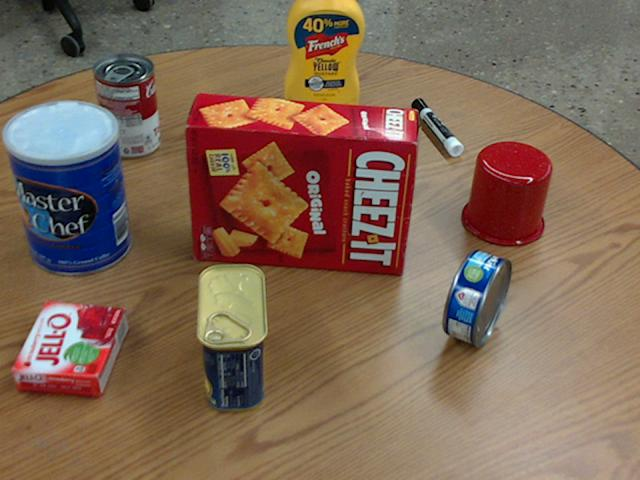cracker_box: (187, 93, 417, 275)
gelatin_box: (10, 301, 124, 394)
large_marker: (413, 97, 463, 155)
master_chef_can: (3, 101, 130, 275)
mug: (460, 141, 551, 245)
mustard_bottle: (286, 0, 365, 112)
potted_meat_can: (194, 263, 264, 409)
sugar_box: (210, 102, 370, 185)
tomato_soup_can: (93, 53, 160, 156)
tuna_fish_can: (444, 249, 510, 345)
